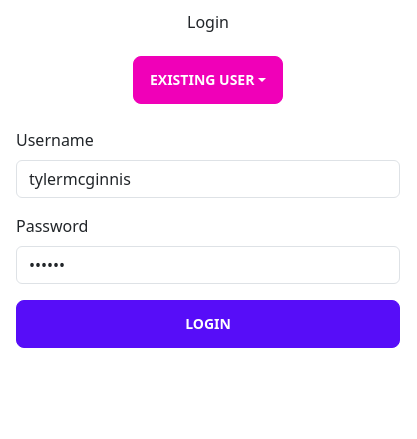
Login Component › should display error message when username or password is incorrect
The image size is (417, 439).
Simulate user input and click on submit button
Replace the text in the field with test id "username-input" with "user" at (208, 179), box [16,160,400,198]
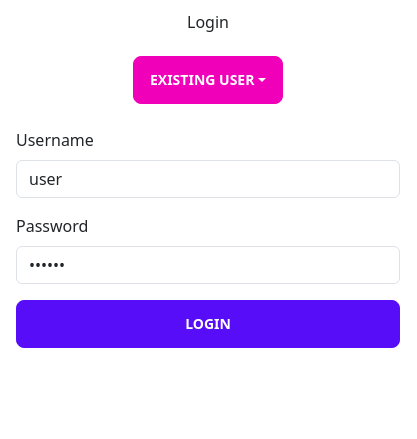
Type "password" into the password field with test id "password-input".
click(208, 265); type("password")  # box [16,246,400,284]
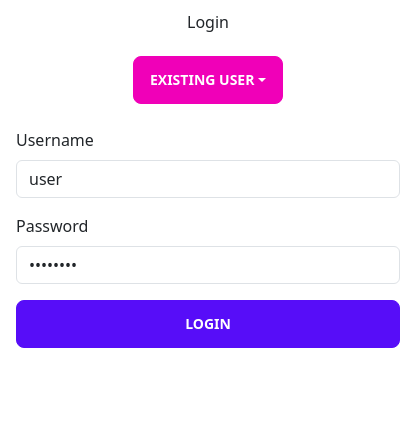
Click the button with test id "submit-login".
click(208, 324)  # box [16,300,400,348]
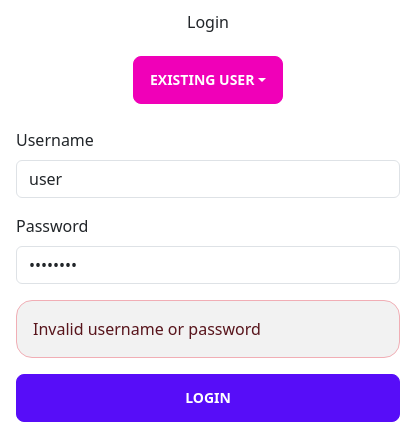
Check: the message with test id "error-message" reads "Invalid username or password", box [33,318,261,340]
